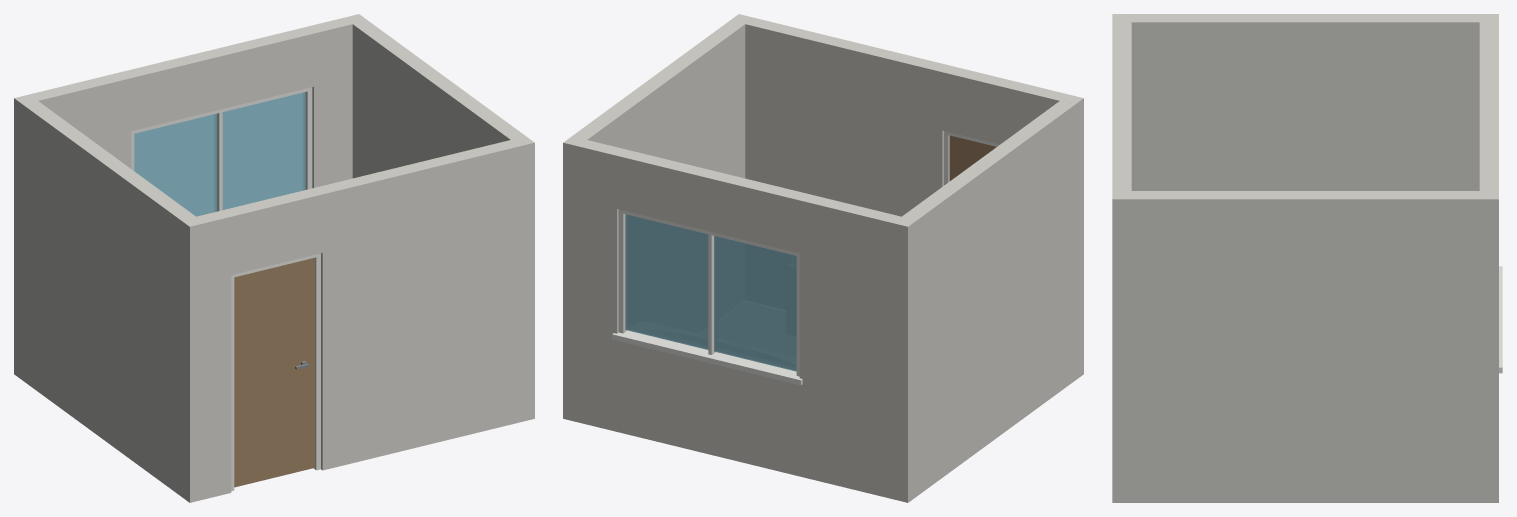
The model's file is oursv11b.glb.
3 renders of one model, left to right at view 1: azimuth 30°, elevation 25°; view 2: azimuth 150°, elevation 25°; view 3: azimuth 270°, elevation 25°, orthographic. The views are drawn at different scales.
Visible parts, largest first — view 1: wall|scenesmith_076__R00|0, wall|scenesmith_076__R00|2, wall|scenesmith_076__R00|1, wall|scenesmith_076__R00|0 Door 0 | wood leaf, wall|scenesmith_076__R00|3, wall|scenesmith_076__R00|1 Window 0 | glazing, wall|scenesmith_076__R00|0 Door 0 | jamb, wall|scenesmith_076__R00|1 Window 0 | jamb; view 2: wall|scenesmith_076__R00|1, wall|scenesmith_076__R00|2, wall|scenesmith_076__R00|0, wall|scenesmith_076__R00|1 Window 0 | glazing, wall|scenesmith_076__R00|3, wall|scenesmith_076__R00|1 Window 0 | jamb, wall|scenesmith_076__R00|0 Door 0 | wood leaf; view 3: wall|scenesmith_076__R00|3, wall|scenesmith_076__R00|2, wall|scenesmith_076__R00|0, wall|scenesmith_076__R00|1.
Boxes of the visible parts, x1,y1,x2,y2 form: wall|scenesmith_076__R00|0: (181, 136, 534, 502); wall|scenesmith_076__R00|2: (23, 101, 195, 502); wall|scenesmith_076__R00|1: (14, 14, 367, 380); wall|scenesmith_076__R00|0 Door 0 | wood leaf: (234, 257, 314, 487); wall|scenesmith_076__R00|3: (352, 20, 525, 178); wall|scenesmith_076__R00|1 Window 0 | glazing: (134, 92, 305, 216); wall|scenesmith_076__R00|0 Door 0 | jamb: (231, 253, 320, 490); wall|scenesmith_076__R00|1 Window 0 | jamb: (131, 87, 312, 211); wall|scenesmith_076__R00|1: (563, 136, 916, 502); wall|scenesmith_076__R00|2: (902, 98, 1083, 495); wall|scenesmith_076__R00|0: (730, 14, 1083, 216); wall|scenesmith_076__R00|1 Window 0 | glazing: (625, 214, 796, 371); wall|scenesmith_076__R00|3: (572, 20, 745, 178); wall|scenesmith_076__R00|1 Window 0 | jamb: (612, 209, 802, 385); wall|scenesmith_076__R00|0 Door 0 | wood leaf: (949, 135, 996, 180); wall|scenesmith_076__R00|3: (1131, 191, 1498, 502); wall|scenesmith_076__R00|2: (1131, 14, 1479, 190); wall|scenesmith_076__R00|0: (1112, 14, 1131, 502); wall|scenesmith_076__R00|1: (1479, 14, 1498, 199).
Bounding box in the file's own units: 3.4 × 2.61 × 3.03.
